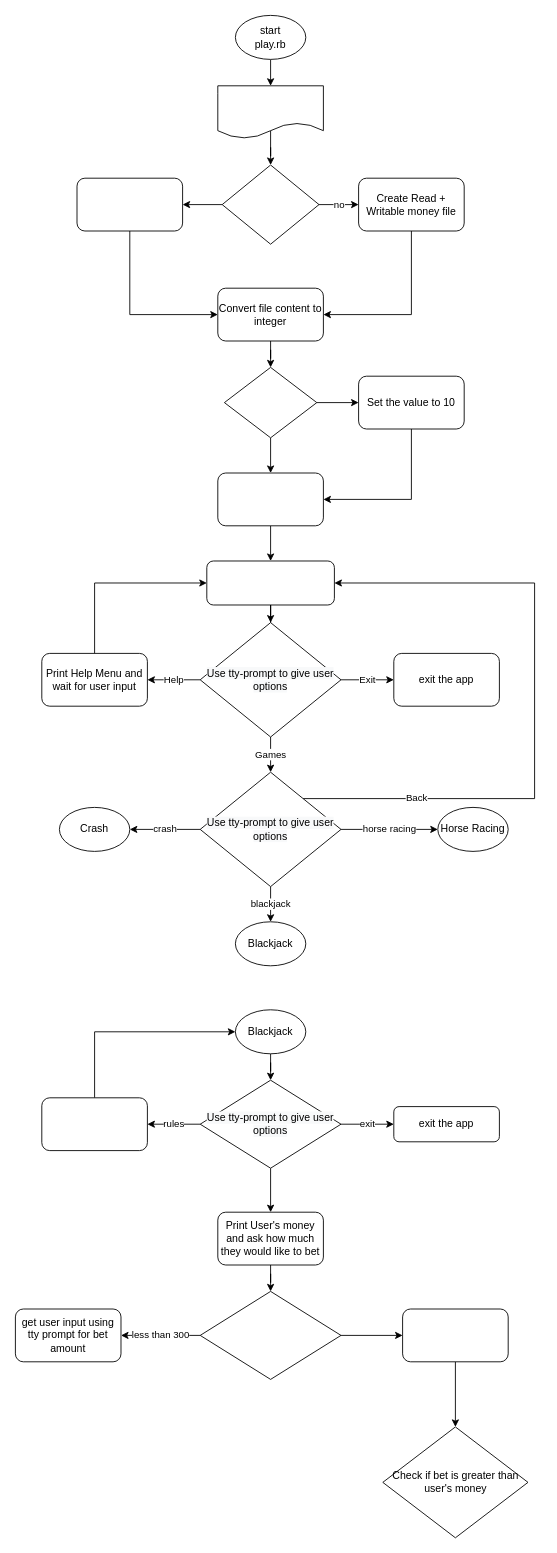
The diagram is 557 pixels wide and 1553 high, and some of its shapes have lost their labels. The centre of each missing label's shape, as x and y in pixels:
"Check if user's money is greater than 300" goes at pixel 270 1335.
"Convert file to integer" goes at pixel 129 204.
"does money file exitst?" goes at pixel 270 204.
"find - money_val.txt" goes at pixel 270 112.
"Get input from user for amount to bet and convert to INT" goes at pixel 455 1335.
"is the value > 9" goes at pixel 270 402.
"money = value" goes at pixel 270 499.
"Print a starting menu." goes at pixel 270 582.
"Print rules menu and wait for user input" goes at pixel 94 1124.
